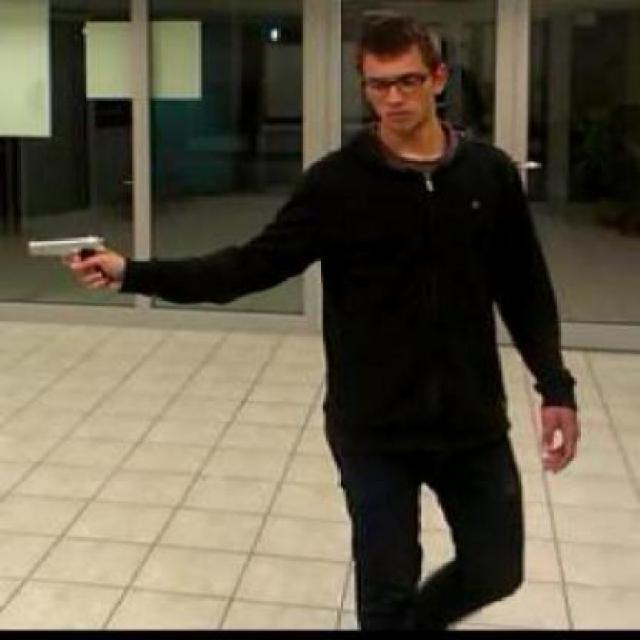gun: (20, 228, 122, 289)
